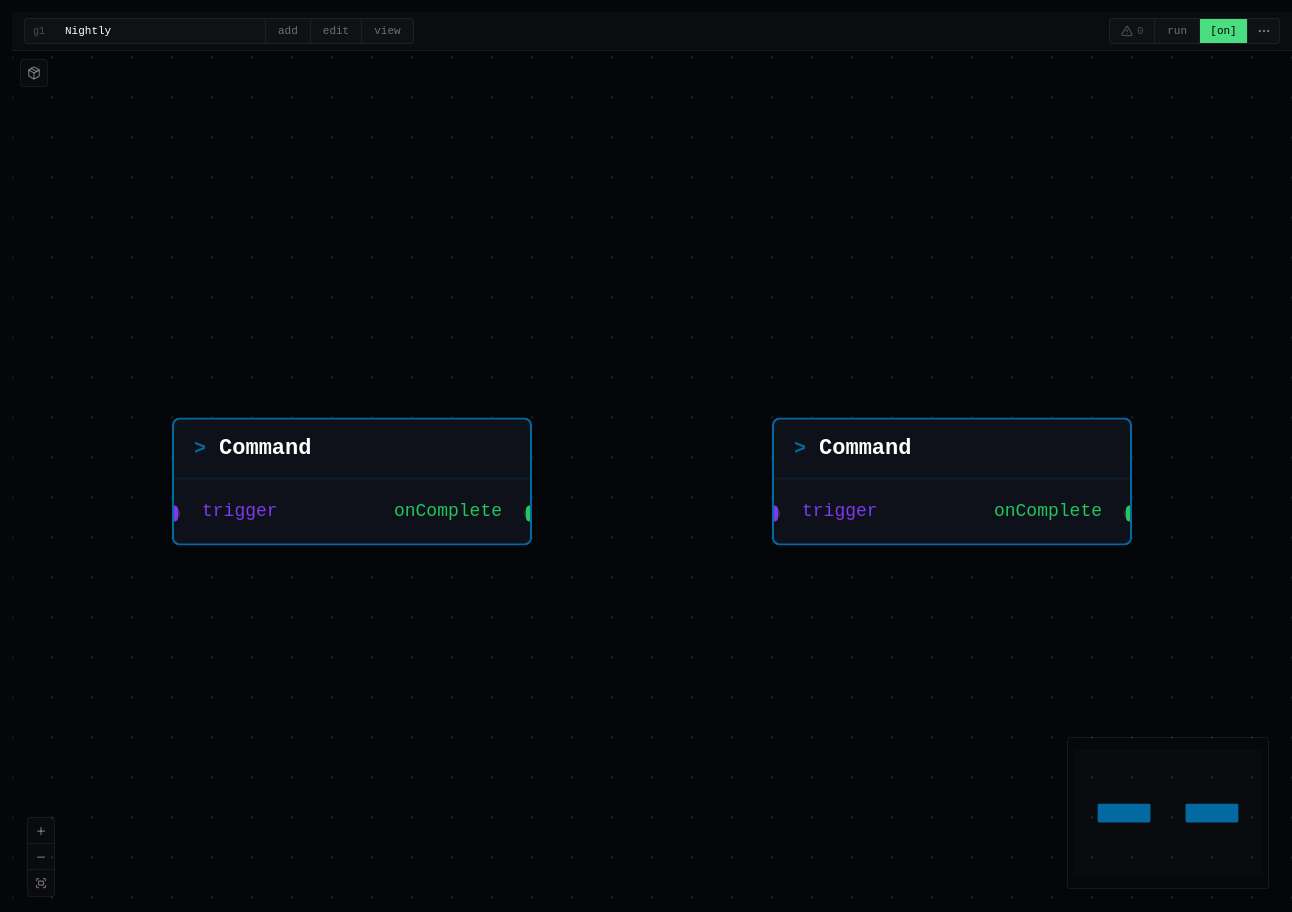
it: right-clicking a block opens the edit menu › keeps a multi-selection when the block is inside it
Expected: the number of elements with class "react-flow__node" is 2, x1=172 y1=418 x2=532 y2=546; x1=772 y1=418 x2=1132 y2=546
Click the button "edit" at [336, 31], box x1=311 y1=19 x2=361 y2=43
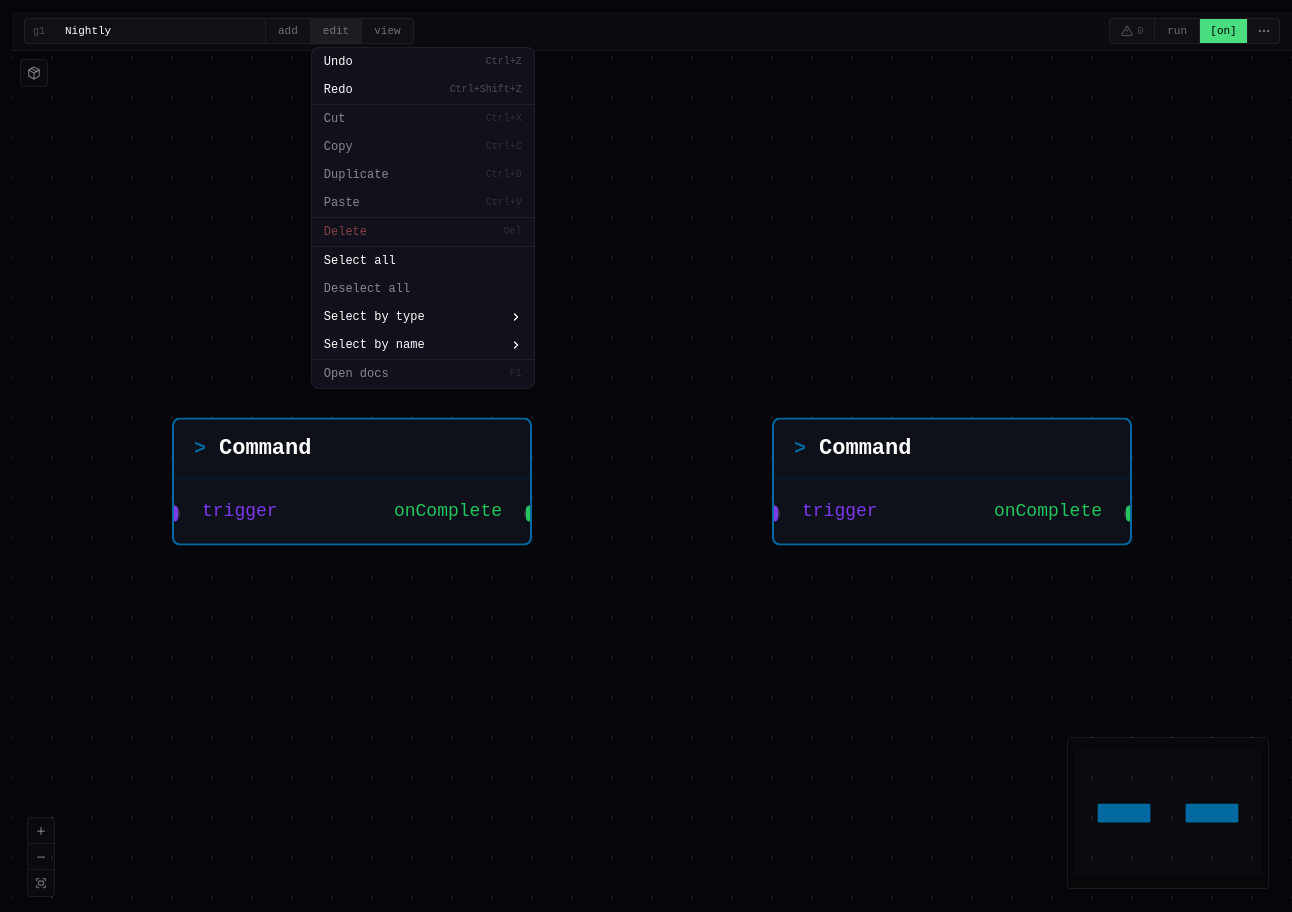
Click the button "Select all" at [423, 261], box x1=312 y1=247 x2=534 y2=275
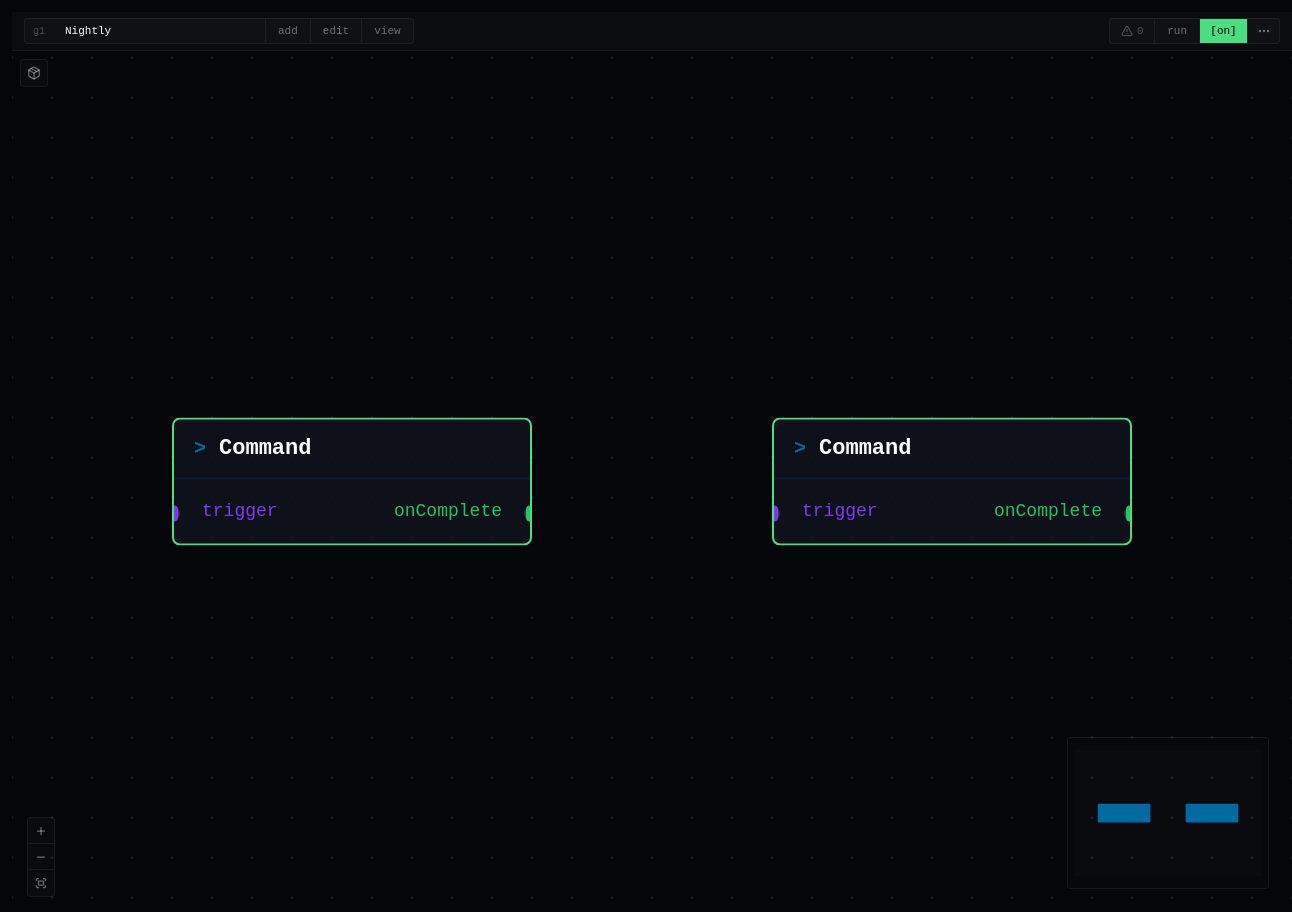
Right-click the element with class "selected" showing "> Command trigger onComplete" at [952, 482], box x1=772 y1=418 x2=1132 y2=546
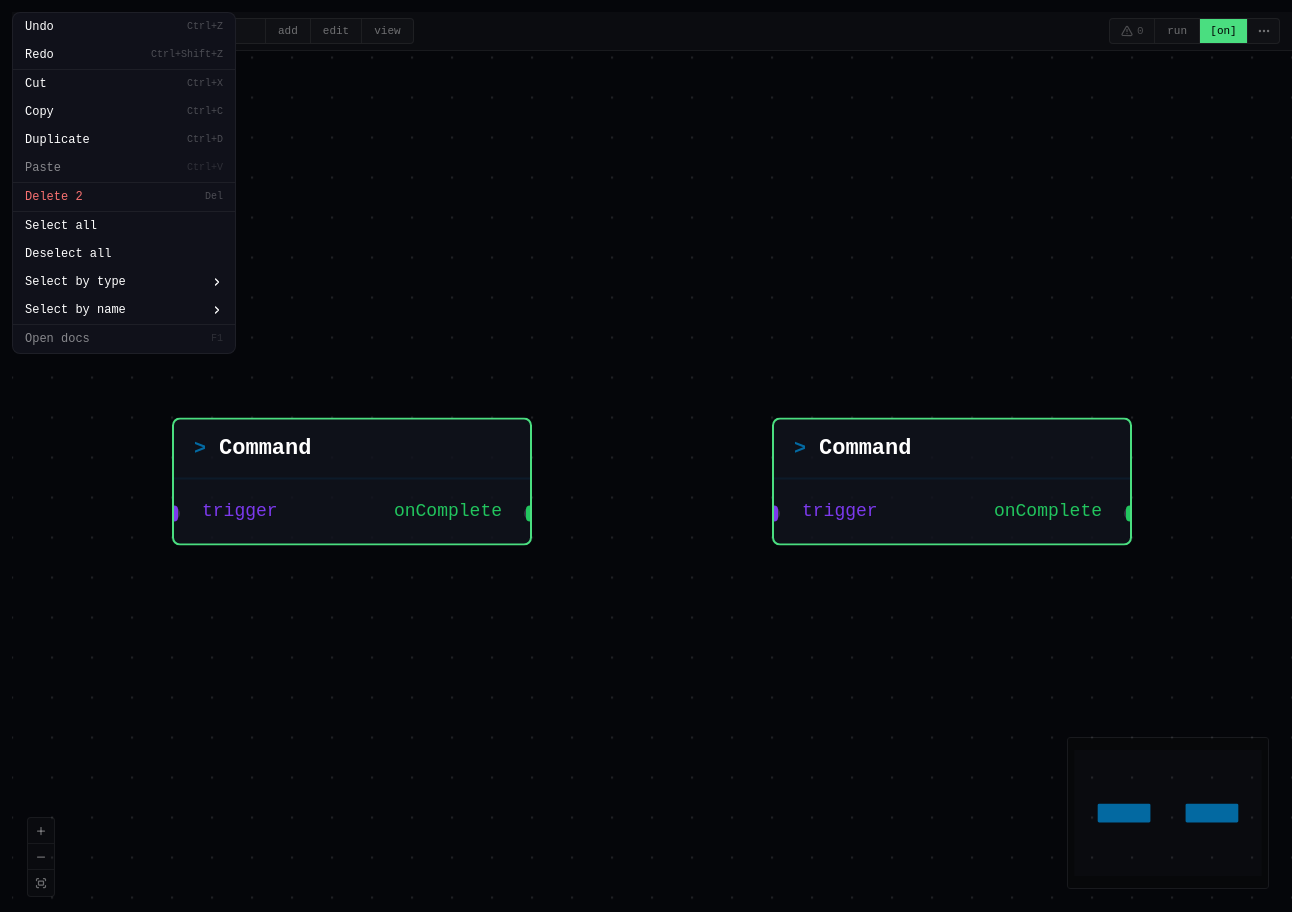
Now the menu named "Edit" is shown, box x1=12 y1=12 x2=236 y2=354
Now the button "Delete 2 Del" is shown, box x1=13 y1=183 x2=235 y2=211
